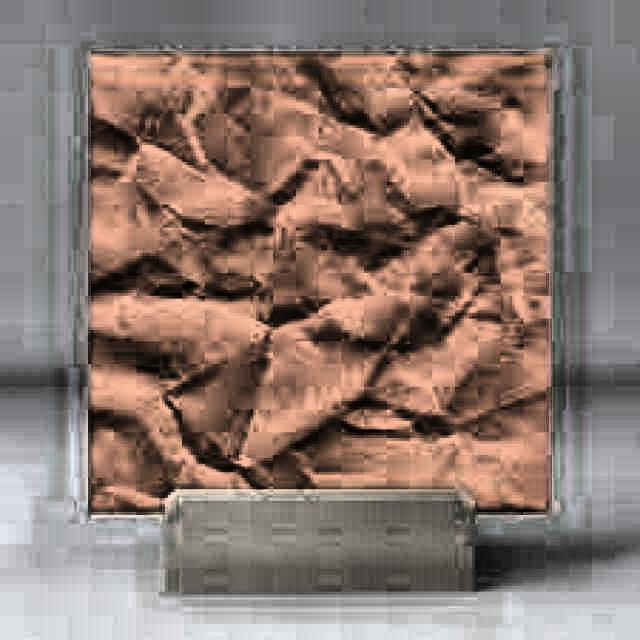Paper: (82, 46, 552, 512)
